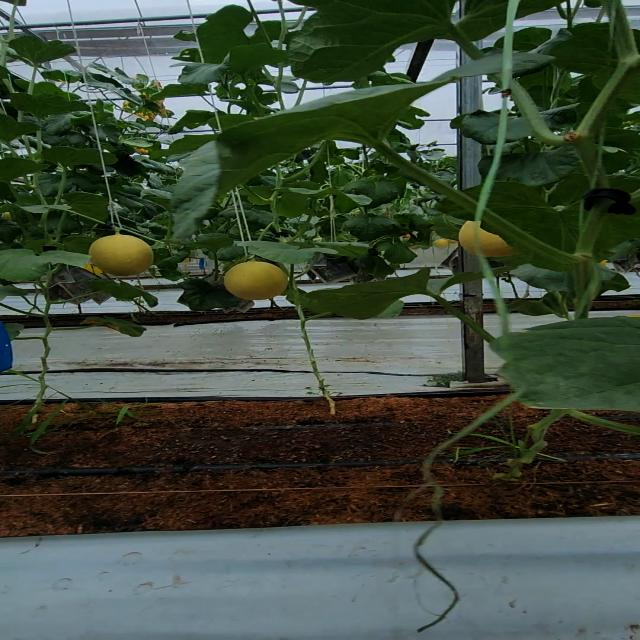Rear-melon: (227, 260, 286, 300), (93, 235, 154, 272), (462, 223, 503, 256)
